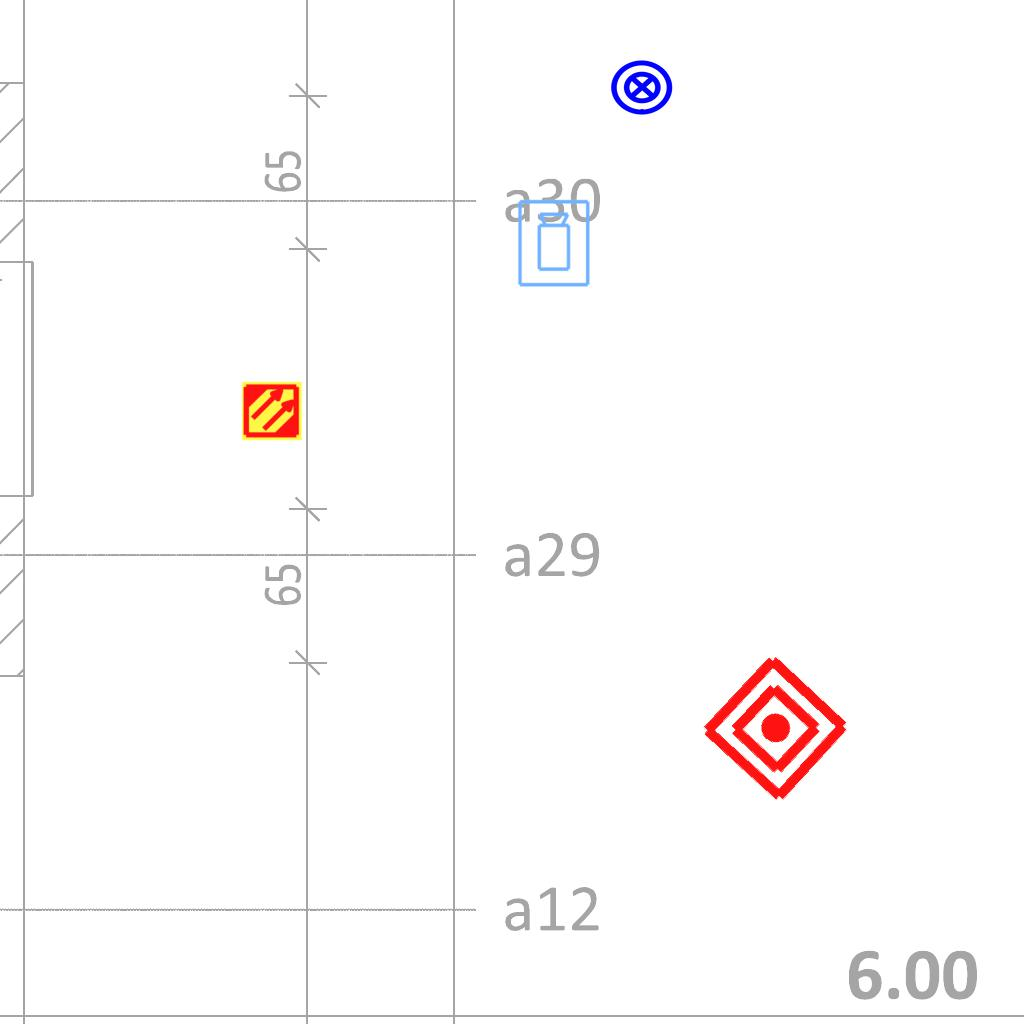ASR_Ansaugrauchmelder: (241, 380, 303, 442)
KFO_Kamera_mit_Festobjektiv: (516, 198, 593, 289)
NAM-Nichtautomatischer_Melder: (695, 648, 856, 809)
Taster_beleuchtet: (609, 54, 675, 120)
